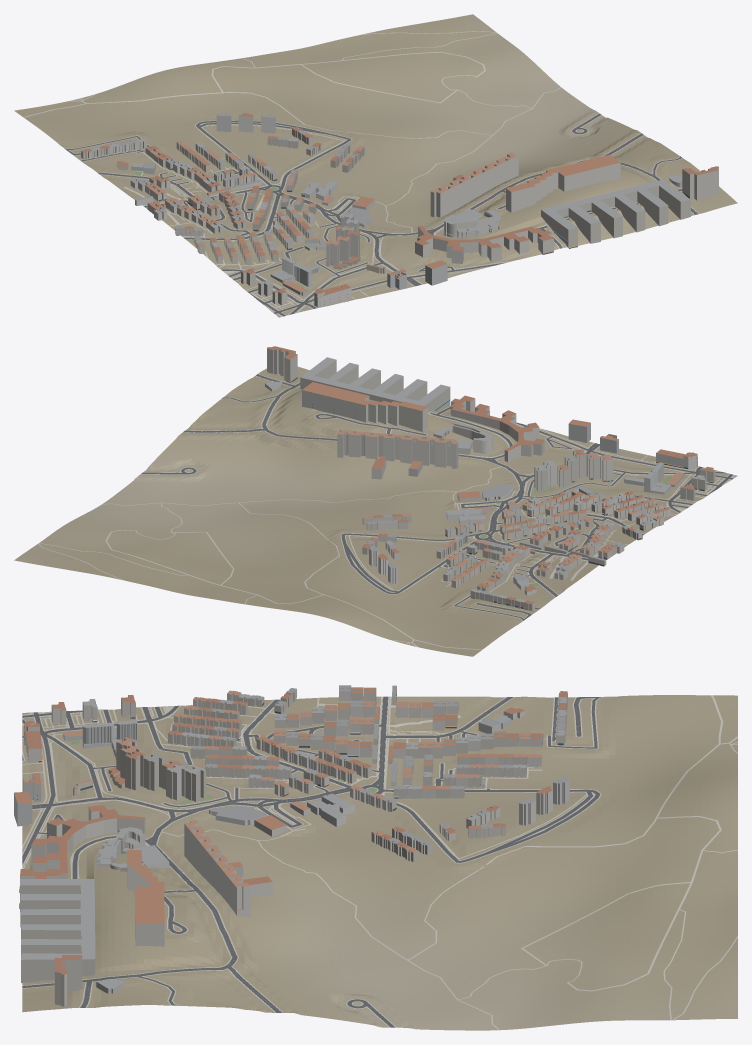
The picture shows the model from 3 angles, top to bottom: view 1: azimuth 30°, elevation 25°; view 2: azimuth 150°, elevation 25°; view 3: azimuth 270°, elevation 25°; orthographic projection. The views are drawn at different scales.
Visible parts, largest first — view 1: Ground, Walls, Roofs, Sidewalk, Road; view 2: Ground, Walls, Roofs, Sidewalk, Road; view 3: Ground, Walls, Roofs, Sidewalk, Road.
Boxes of the visible parts, left/top/right/bottom form: Ground: left=14, top=14, right=737, bottom=317; Walls: left=81, top=114, right=718, bottom=307; Roofs: left=81, top=112, right=718, bottom=297; Sidewalk: left=23, top=31, right=699, bottom=316; Road: left=64, top=113, right=698, bottom=316; Ground: left=14, top=366, right=737, bottom=656; Walls: left=265, top=348, right=715, bottom=610; Roofs: left=265, top=346, right=714, bottom=604; Sidewalk: left=38, top=373, right=735, bottom=649; Road: left=141, top=374, right=733, bottom=620; Ground: left=22, top=695, right=737, bottom=1030; Walls: left=14, top=688, right=569, bottom=1006; Roofs: left=14, top=685, right=569, bottom=988; Sidewalk: left=22, top=695, right=737, bottom=1029; Road: left=22, top=696, right=601, bottom=1027.
Bounding box in the file's own units: 1013 × 87.64 × 1012.
